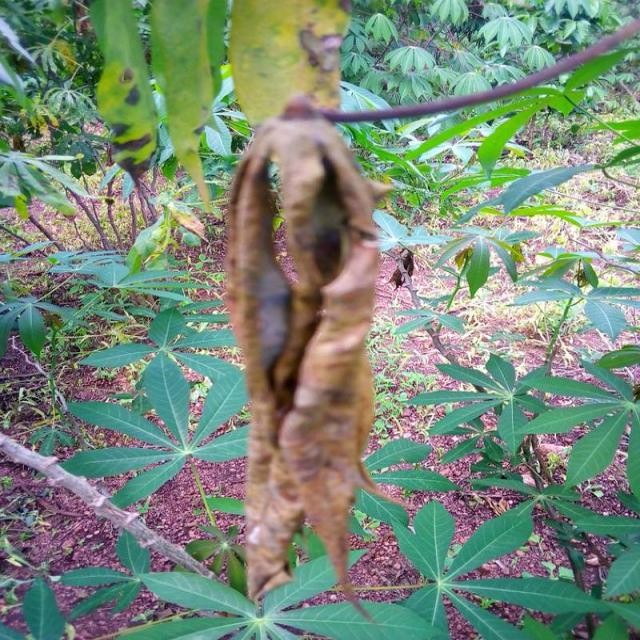cassava leaf: (227, 0, 353, 131), (89, 0, 159, 177)
